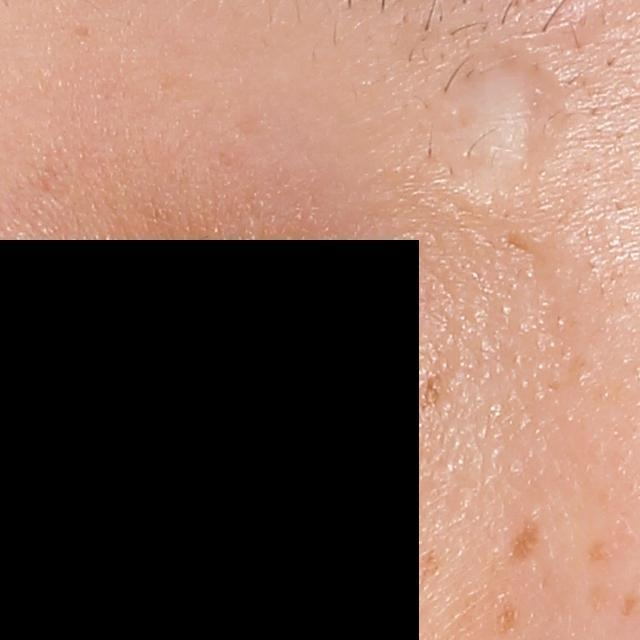melasma: (506, 508, 549, 565), (582, 531, 616, 567), (496, 596, 522, 635), (420, 544, 441, 582)
